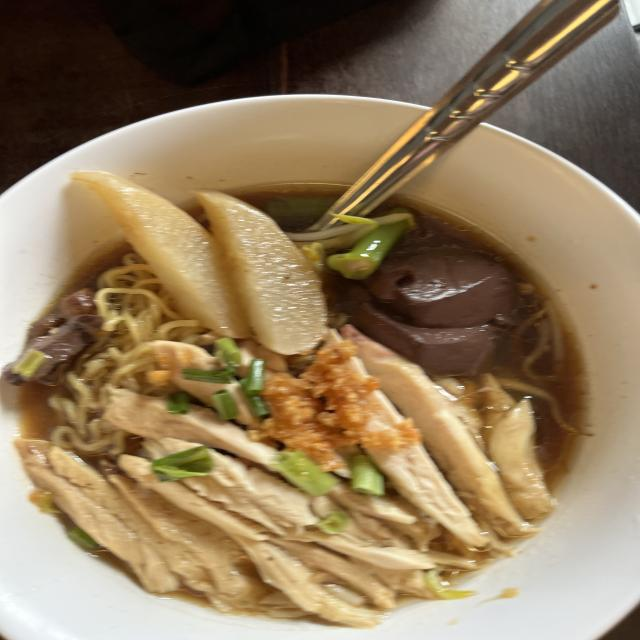noodle: (0, 94, 640, 632)
